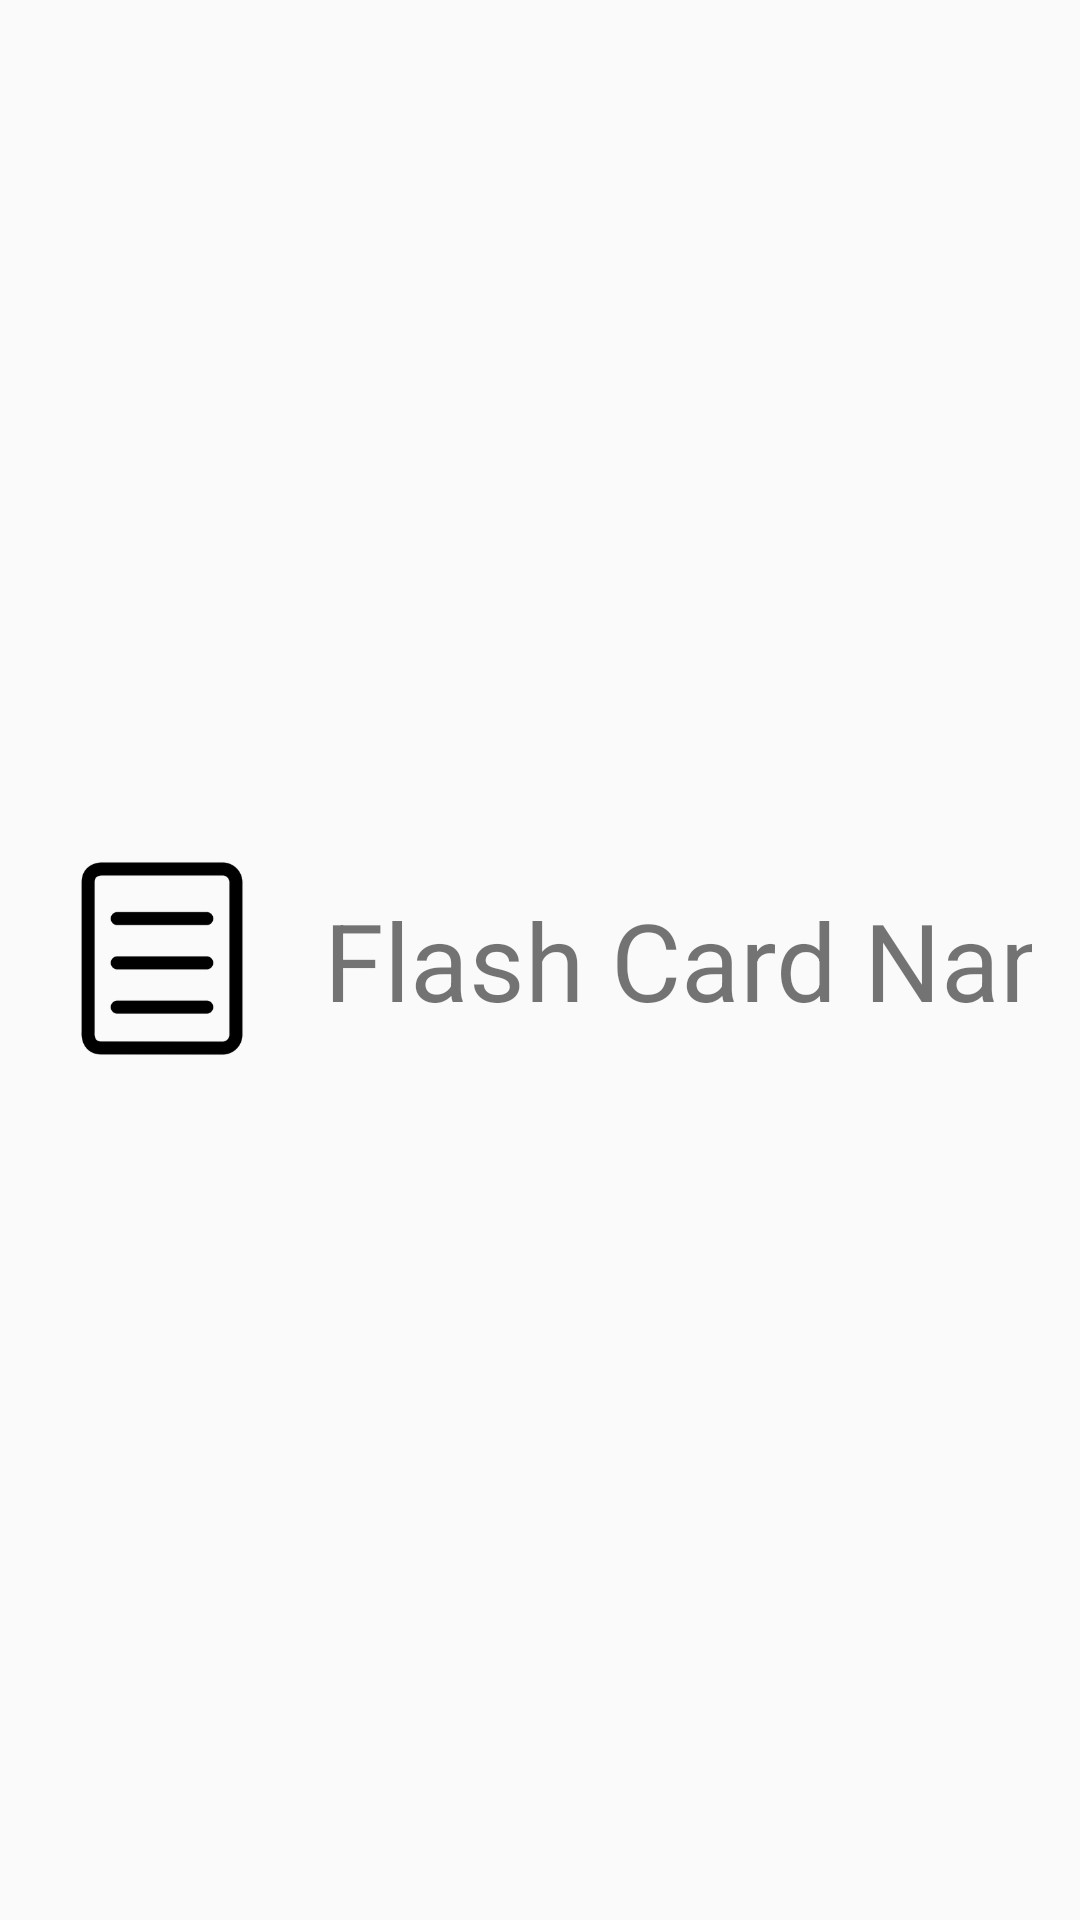

Where icons sit on this 1080px x 1920px app screen, as [x1, y1, x2, y2]:
cardicon: [81, 862, 243, 1055]
